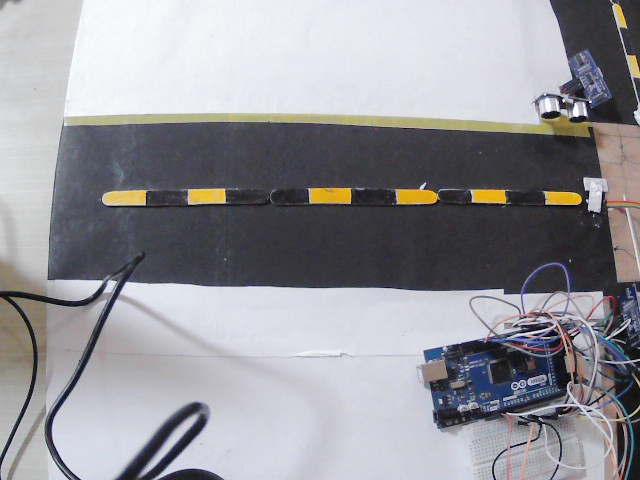black_strip: (351, 185, 395, 208), (227, 186, 269, 204), (145, 187, 187, 204), (270, 186, 308, 204), (505, 187, 543, 204), (435, 186, 470, 204), (617, 26, 634, 54), (632, 75, 640, 99)
mixed_lane: (98, 188, 583, 205), (604, 1, 638, 97)
uno_breadboard: (415, 321, 576, 429), (467, 399, 587, 478), (564, 43, 611, 107), (530, 91, 591, 121), (614, 280, 640, 347)
yellow_strip: (308, 185, 348, 206), (396, 186, 434, 204), (187, 187, 225, 204), (101, 190, 143, 205), (545, 190, 582, 204), (471, 188, 503, 203), (610, 0, 626, 26), (626, 54, 637, 75)
